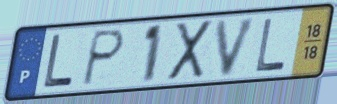1: (141, 23, 165, 85)
L: (41, 32, 76, 91), (254, 17, 288, 74)
P: (78, 27, 128, 89)
V: (214, 15, 261, 79)
X: (166, 18, 214, 84)
